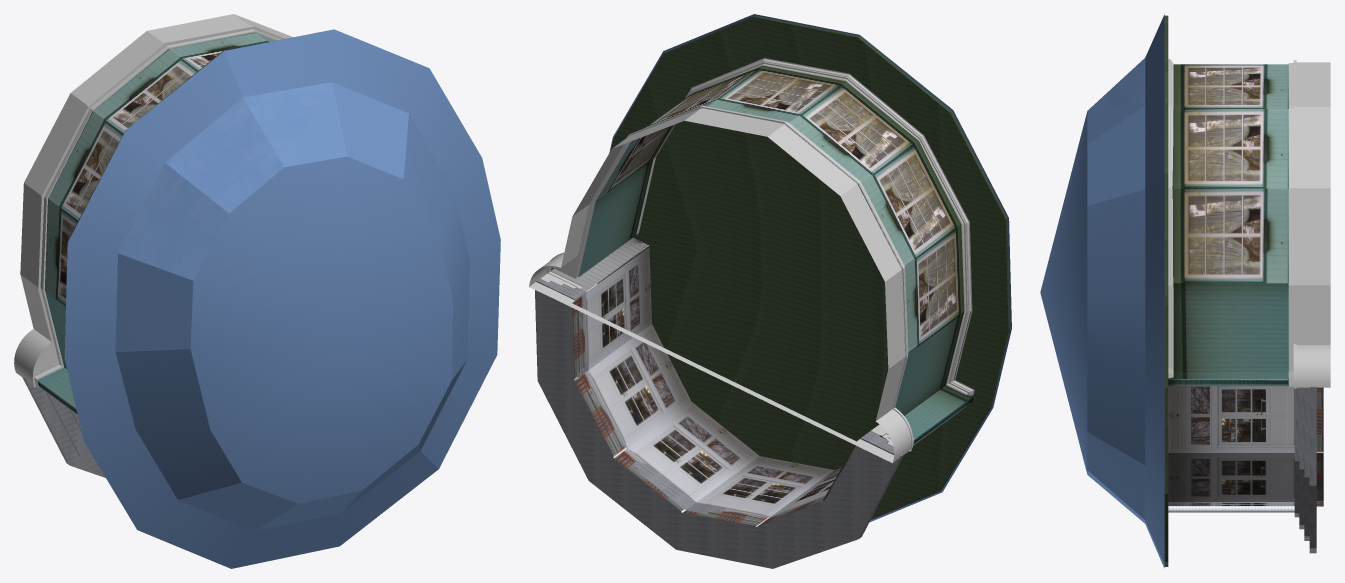
Rendered from Ingeri_bastion_kohvik.obj.
3 renders of one model, left to right at view 1: azimuth 30°, elevation 25°; view 2: azimuth 150°, elevation 25°; view 3: azimuth 270°, elevation 25°, orthographic. The views are drawn at different scales.
Visible parts, largest first — view 1: Ingeri_bastion_kohvik; view 2: Ingeri_bastion_kohvik; view 3: Ingeri_bastion_kohvik.
Boxes of the visible parts, x1,y1,x2,y2 form: Ingeri_bastion_kohvik: (14, 14, 500, 568); Ingeri_bastion_kohvik: (529, 14, 1011, 568); Ingeri_bastion_kohvik: (1040, 14, 1330, 568).
Size of the model in its own units: 14.47 by 16.59 by 8.72.
